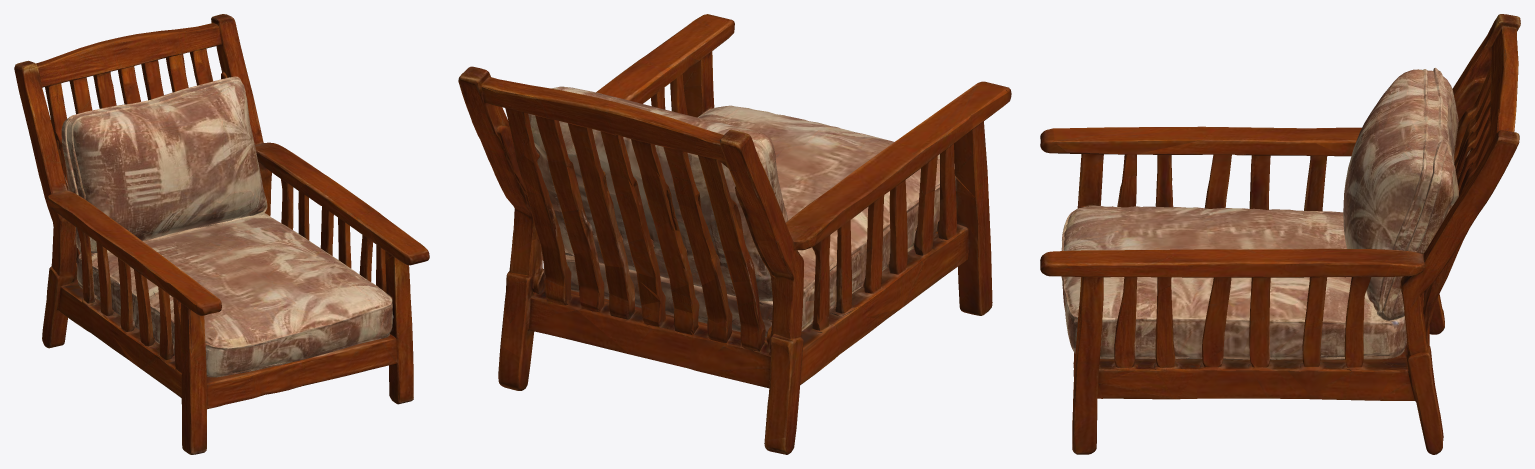
The model's file is w4armchair.glb.
3 views of the same model, side by side, from view 1: azimuth 30°, elevation 25°; view 2: azimuth 150°, elevation 25°; view 3: azimuth 270°, elevation 25° (orthographic). The views are drawn at different scales.
Visible parts, largest first — view 1: output_unwrapped; view 2: output_unwrapped; view 3: output_unwrapped.
Part boxes in pixels (left/top/right/bottom): output_unwrapped: left=14, top=14, right=429, bottom=454; output_unwrapped: left=458, top=14, right=1011, bottom=454; output_unwrapped: left=1040, top=14, right=1520, bottom=454.
Bounding box in the file's own units: 0.85 × 0.9193 × 1.26.
Materials: 1 (1 with a texture image).
